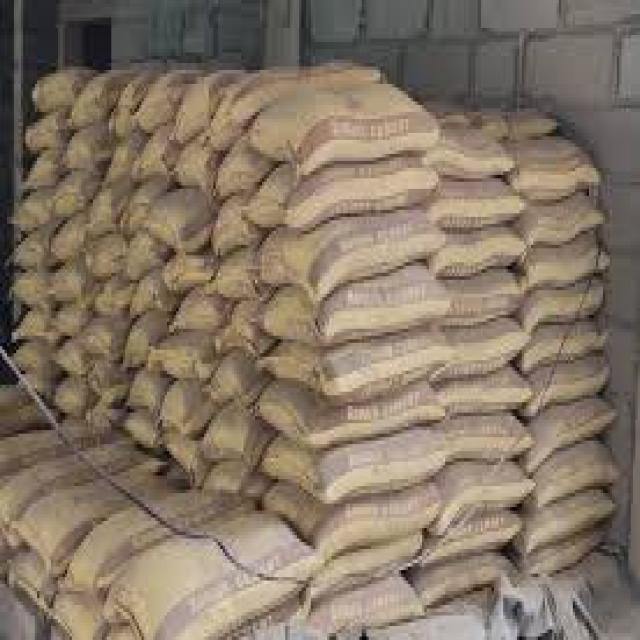cement_bag: (116, 495, 322, 640), (70, 488, 251, 603), (19, 460, 186, 576), (261, 203, 446, 305), (250, 77, 446, 173), (259, 256, 456, 346), (264, 420, 456, 511), (256, 371, 453, 448), (247, 153, 441, 231), (268, 480, 441, 566), (209, 50, 383, 135), (269, 325, 456, 400), (527, 388, 628, 478), (432, 459, 539, 541), (519, 483, 625, 556), (318, 573, 433, 640), (423, 548, 524, 615), (511, 127, 606, 197), (441, 265, 536, 330), (199, 400, 267, 483), (142, 183, 214, 258), (526, 271, 606, 338), (430, 175, 531, 228), (526, 316, 613, 376), (438, 228, 531, 281), (529, 192, 610, 251), (144, 326, 218, 386), (448, 411, 531, 463), (174, 133, 227, 207), (157, 378, 215, 445), (140, 63, 206, 115), (436, 123, 519, 162), (121, 308, 166, 370), (128, 128, 181, 180), (214, 255, 267, 306), (12, 265, 53, 325), (63, 123, 108, 172), (87, 231, 128, 283), (78, 321, 125, 365), (126, 371, 168, 420), (123, 233, 166, 280), (50, 220, 93, 266), (49, 178, 98, 218), (167, 255, 210, 295), (91, 283, 131, 321), (55, 343, 88, 385)
